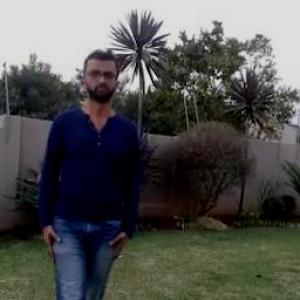follow: (39, 41, 134, 299)
